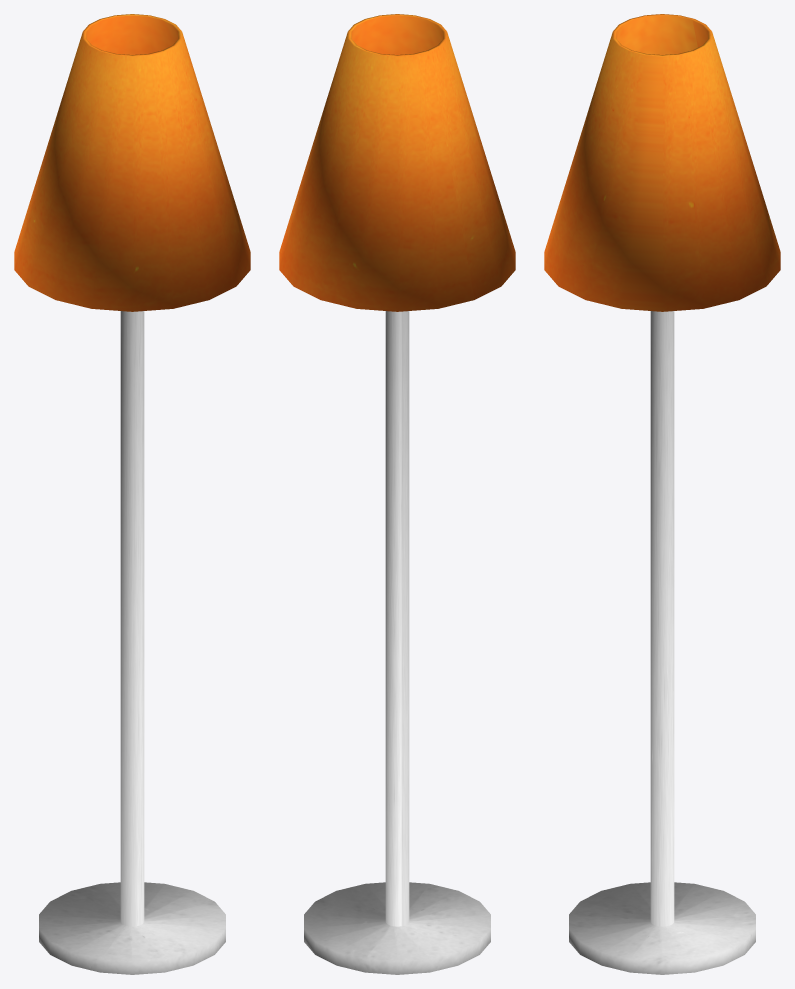
File: standing lamp.fbx
3 views of the same model, side by side, from view 1: azimuth 30°, elevation 25°; view 2: azimuth 150°, elevation 25°; view 3: azimuth 270°, elevation 25° (orthographic).
Visible parts, largest first — view 1: standing_lamp; view 2: standing_lamp; view 3: standing_lamp.
Boxes of the visible parts, left/top/right/bottom form: standing_lamp: left=14, top=14, right=250, bottom=974; standing_lamp: left=279, top=14, right=515, bottom=974; standing_lamp: left=544, top=14, right=780, bottom=974.
Size of the model in its own units: 56.07 by 232 by 55.22.
